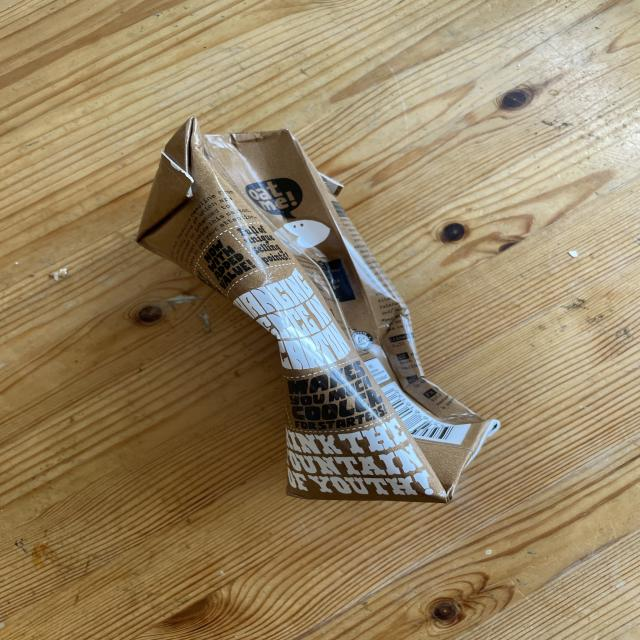non_white_jug: (149, 119, 493, 502)
